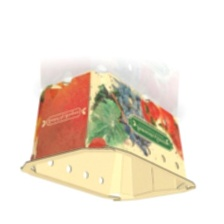plastic_box: (14, 63, 200, 210)
